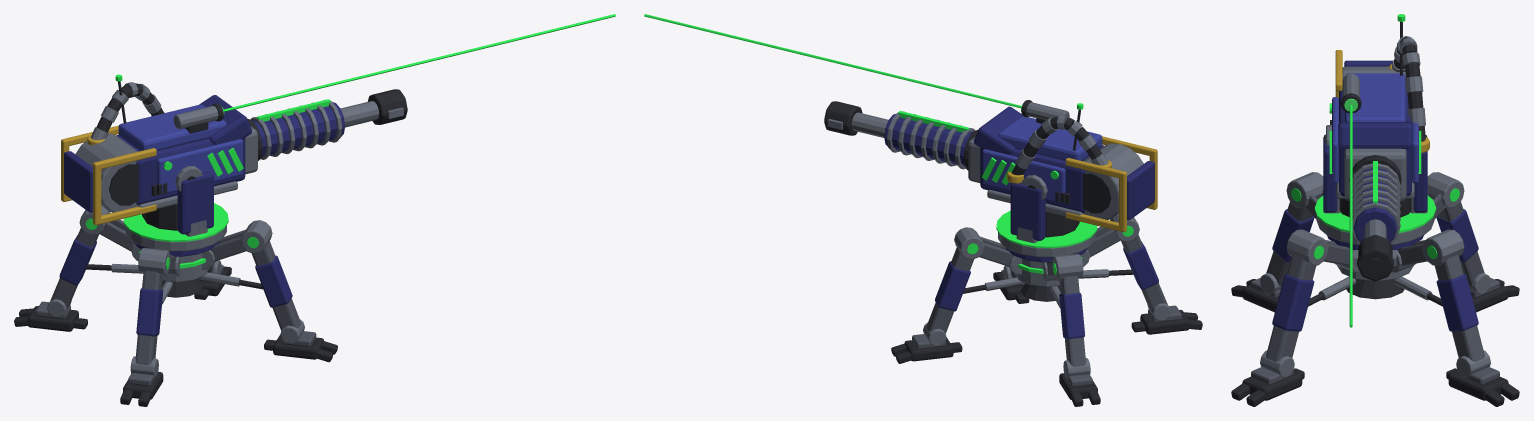
The model's file is torreta_ametralladora.glb.
3 renders of one model, left to right at view 1: azimuth 30°, elevation 25°; view 2: azimuth 150°, elevation 25°; view 3: azimuth 270°, elevation 25°, orthographic. The views are drawn at different scales.
Visible parts, largest first — view 1: Pivot, Base, Barrel, Laser; view 2: Pivot, Base, Barrel, Laser; view 3: Base, Pivot, Barrel, Laser.
Part boxes in pixels (left/top/right/bottom): Pivot: left=61, top=74, right=262, bottom=251; Base: left=14, top=206, right=337, bottom=406; Barrel: left=250, top=89, right=407, bottom=159; Laser: left=223, top=14, right=615, bottom=111; Pivot: left=963, top=100, right=1157, bottom=257; Base: left=891, top=213, right=1202, bottom=406; Barrel: left=824, top=101, right=975, bottom=169; Laser: left=644, top=14, right=1021, bottom=108; Base: left=1231, top=172, right=1519, bottom=406; Pivot: left=1314, top=14, right=1436, bottom=245; Barrel: left=1352, top=161, right=1400, bottom=281; Laser: left=1349, top=105, right=1352, bottom=327.
Bounding box in the file's own units: 10.02 × 4.74 × 4.05.
Materials: 1 (1 with a texture image).
